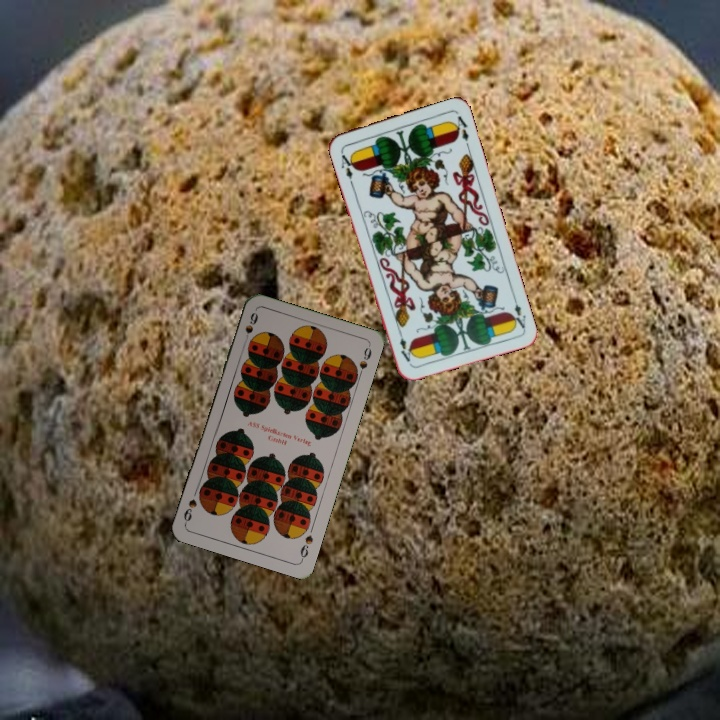EA: (507, 292, 529, 331), (337, 147, 358, 186)
S9: (240, 309, 260, 347), (296, 531, 316, 563)
